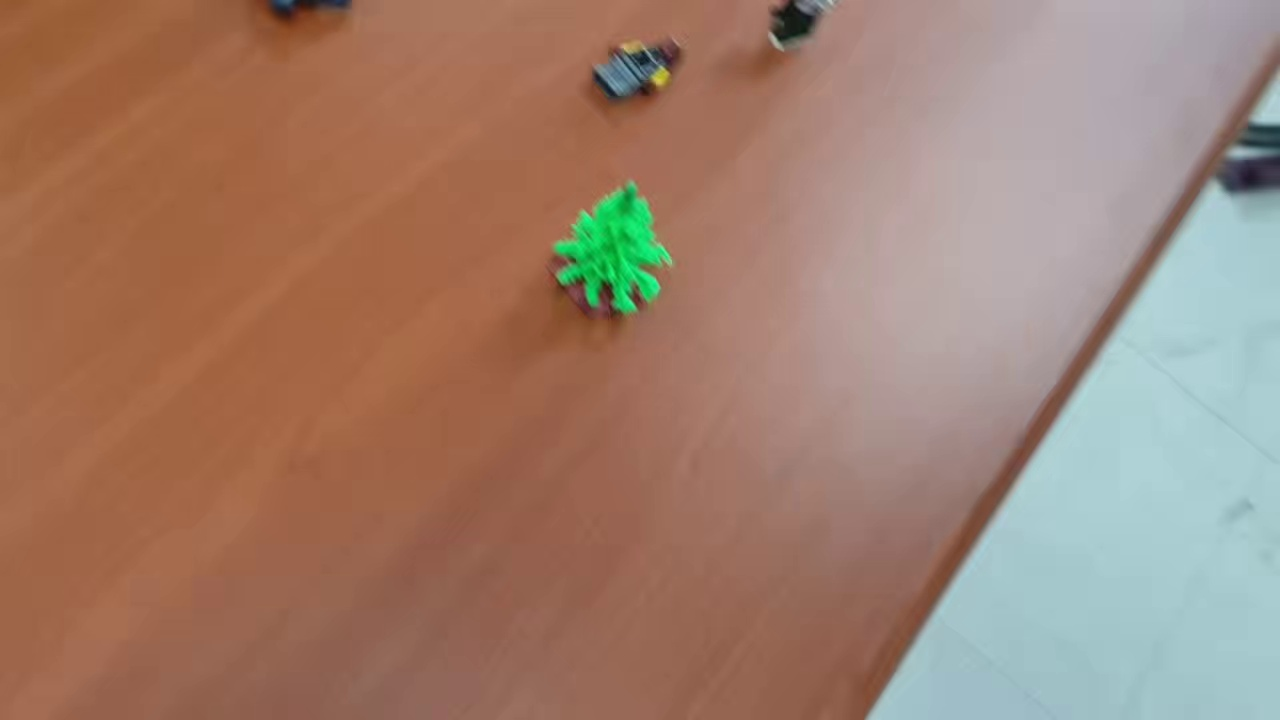people: (589, 33, 685, 106), (764, 1, 839, 55)
tree: (545, 179, 676, 324)
